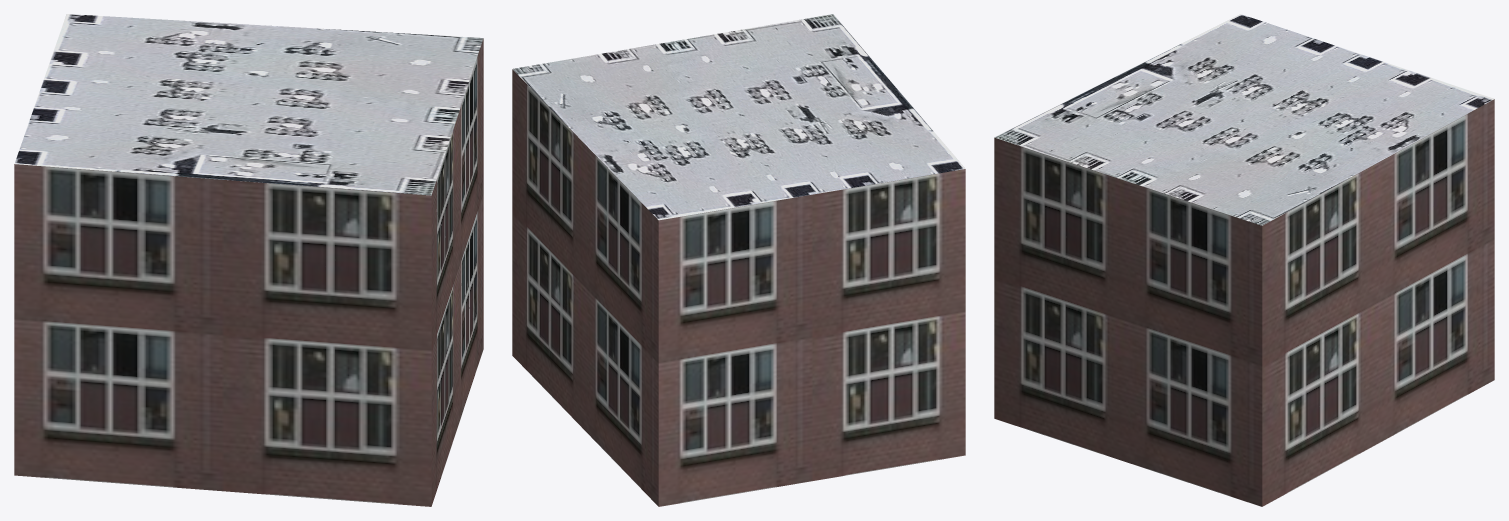
Rendered from ResTex__958.fbx.
The picture shows the model from 3 angles, left to right: view 1: azimuth 30°, elevation 25°; view 2: azimuth 150°, elevation 25°; view 3: azimuth 270°, elevation 25°; orthographic projection. The views are drawn at different scales.
Parts seen in each view (by area): view 1: CityEngineMaterial_12_m, CityEngineMaterial_4_m; view 2: CityEngineMaterial_12_m, CityEngineMaterial_4_m; view 3: CityEngineMaterial_12_m, CityEngineMaterial_4_m.
Boxes of the visible parts, <box> form: CityEngineMaterial_12_m: <box>14,38,483,506</box>; CityEngineMaterial_4_m: <box>14,14,483,195</box>; CityEngineMaterial_12_m: <box>512,69,965,506</box>; CityEngineMaterial_4_m: <box>512,14,965,220</box>; CityEngineMaterial_12_m: <box>994,99,1494,506</box>; CityEngineMaterial_4_m: <box>994,14,1493,225</box>.
Size of the model in its own units: 9.7 by 6 by 9.68.
Materials: 2 (2 with a texture image).
